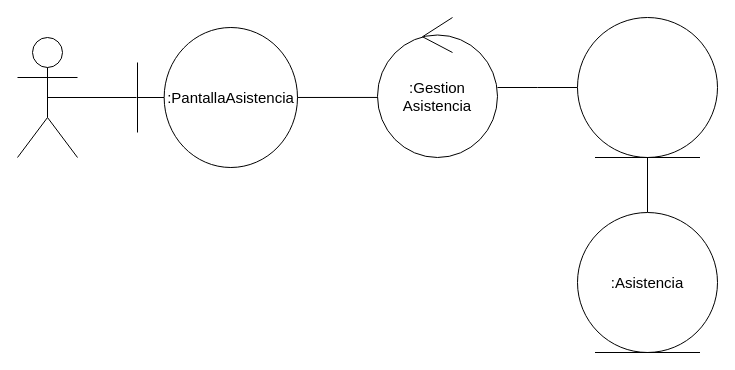
The diagram is 735 pixels wide and 370 high, and some of its shapes have lost their labels. The shapes that lost their labels are listed below. From the top down, each one's box as (x1, y1, x2, y2) in pixels, then its label:
(16, 36, 78, 158): :Estudiante
(576, 16, 718, 158): :Reserva
